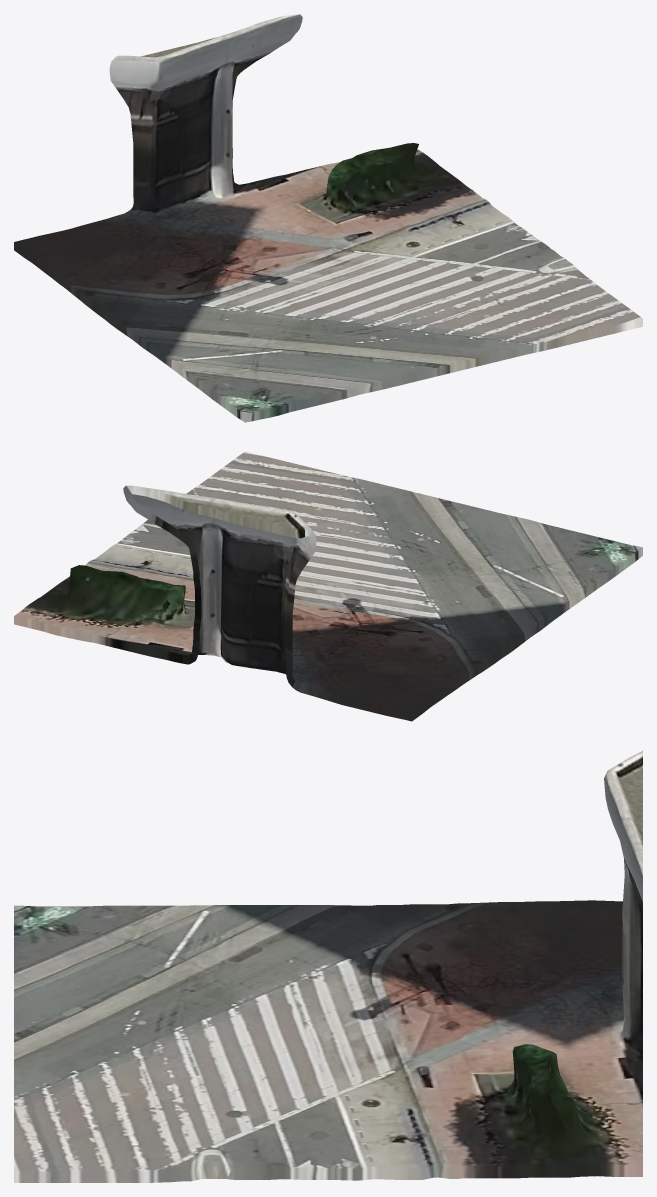
Rendered from z20-167782-405228-h0-yup-uvflip-v3-world.glb.
3 views of the same model, one above another, from view 1: azimuth 30°, elevation 25°; view 2: azimuth 150°, elevation 25°; view 3: azimuth 270°, elevation 25° (orthographic). The views are drawn at different scales.
Size of the model in its own units: 30.16 by 12.6 by 30.32.
1 material, 1 textured.
